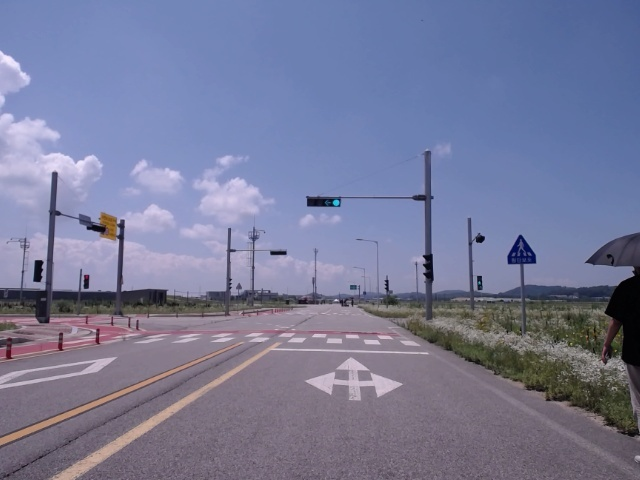all_green_4: (305, 194, 342, 207)
